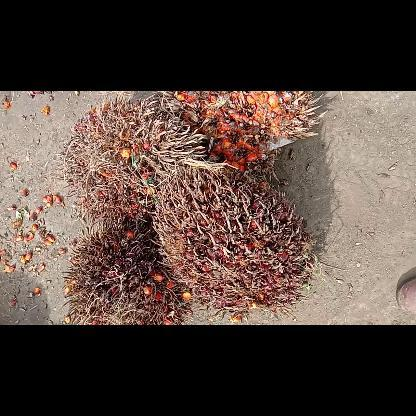Terlalu masak: (151, 166, 317, 316), (52, 90, 206, 224), (63, 218, 191, 324), (174, 90, 326, 176)
